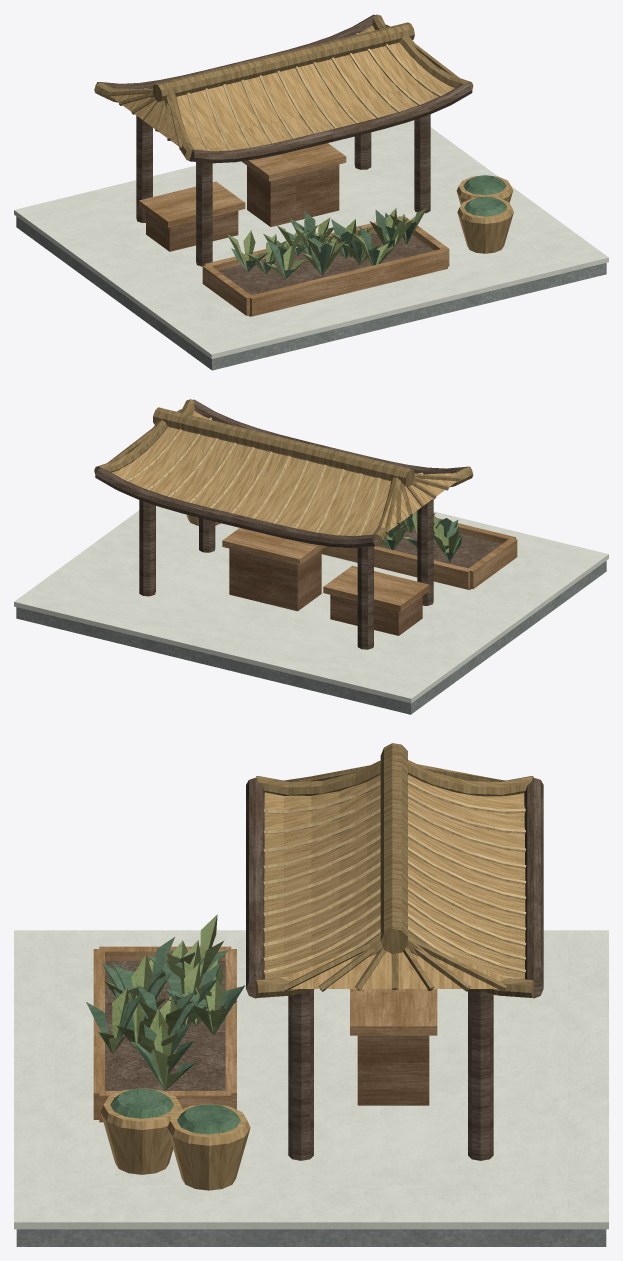
Rendered from BLD_FORAGE.glb.
The picture shows the model from 3 angles, top to bottom: view 1: azimuth 30°, elevation 25°; view 2: azimuth 150°, elevation 25°; view 3: azimuth 270°, elevation 25°; orthographic projection. The views are drawn at different scales.
Visible parts, largest first — view 1: BLD_FORAGE; view 2: BLD_FORAGE; view 3: BLD_FORAGE.
Part boxes in pixels (x1,y1,x2,y2): BLD_FORAGE: (14, 14, 608, 370); BLD_FORAGE: (14, 399, 608, 714); BLD_FORAGE: (14, 743, 608, 1246).
Bounding box in the file's own units: 5.39 × 2.29 × 4.64.
11 materials, 11 textured.
